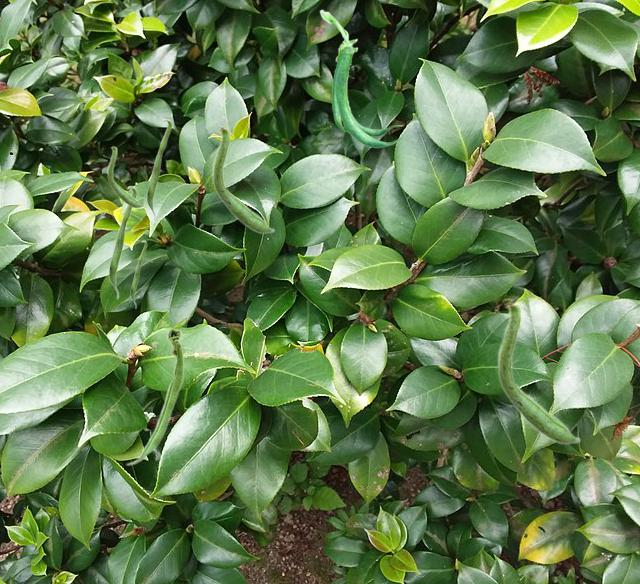french_bean: (497, 300, 580, 444), (319, 9, 403, 147), (125, 327, 183, 465), (212, 125, 274, 233), (108, 185, 136, 299), (146, 118, 171, 221), (107, 145, 142, 207), (130, 240, 146, 308)
